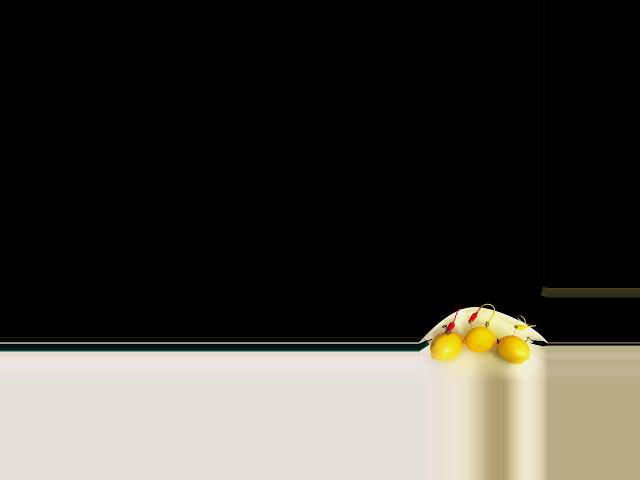lemon: (430, 326, 462, 358)
